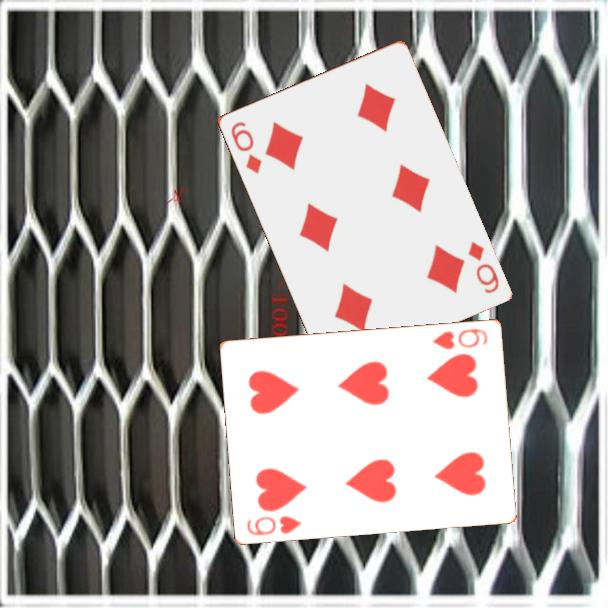d06: (464, 237, 501, 296), (227, 118, 264, 176)
h06: (429, 325, 491, 352), (244, 512, 305, 538)
